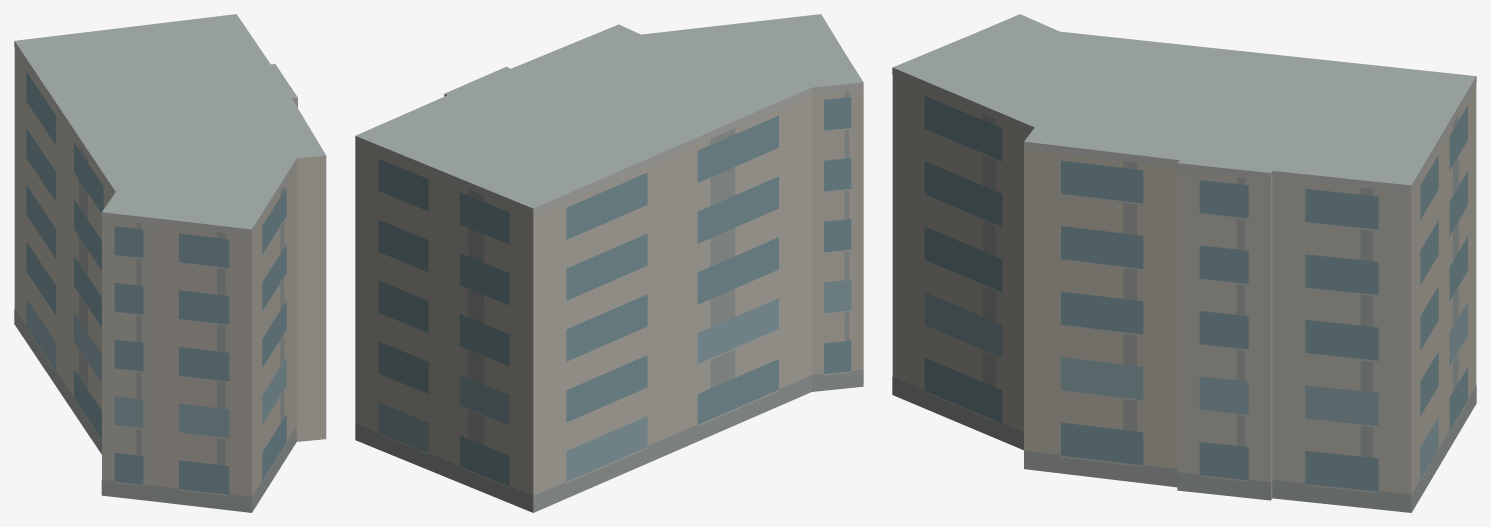
The model's file is survey-upis-32538020.glb.
3 renders of one model, left to right at view 1: azimuth 30°, elevation 25°; view 2: azimuth 150°, elevation 25°; view 3: azimuth 270°, elevation 25°, orthographic. The views are drawn at different scales.
Parts seen in each view (by area): view 1: survey-upis-32538020.tmp; view 2: survey-upis-32538020.tmp; view 3: survey-upis-32538020.tmp.
Boxes of the visible parts, <box> form: survey-upis-32538020.tmp: <box>14,14,326,512</box>; survey-upis-32538020.tmp: <box>355,14,863,512</box>; survey-upis-32538020.tmp: <box>892,14,1476,512</box>.
Bounding box in the file's own units: 11.8 × 10.5 × 16.98.
